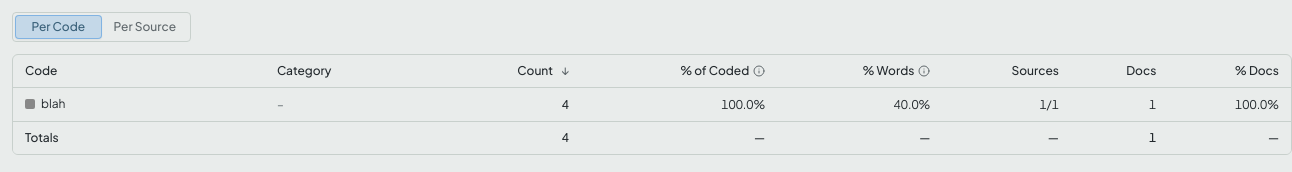
Test case: the source-kind label is a total map, not a ternary chain › names document in the Per Source table
Click the tab "Per Source".
click(145, 27)  # box x1=102 y1=15 x2=188 y2=39
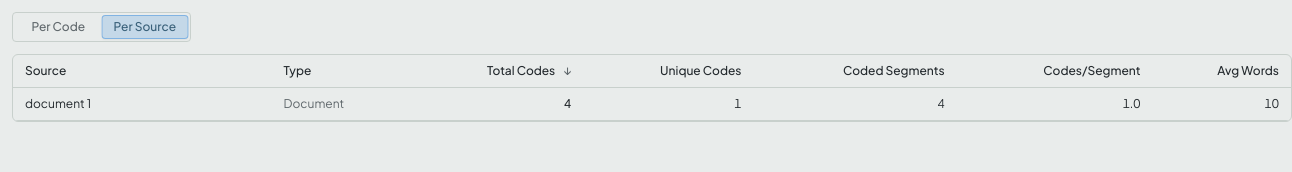
Result: the cell "Document" is shown at x1=272 y1=88 x2=408 y2=120
